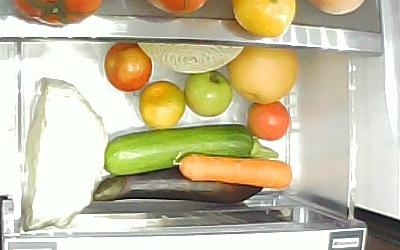cabbage: (23, 79, 109, 230)
carrot: (176, 153, 294, 191)
eggplant: (93, 167, 262, 203)
melon: (137, 40, 243, 74)
pear: (230, 47, 299, 105)
prune: (104, 42, 154, 93)
tangerine: (139, 82, 186, 130)
tomato: (184, 72, 234, 117), (248, 101, 291, 143)
zucchini: (104, 124, 278, 176)
